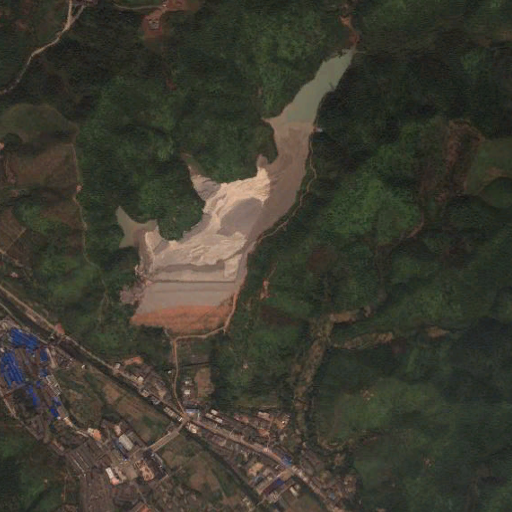tp: (115, 46, 357, 338)
